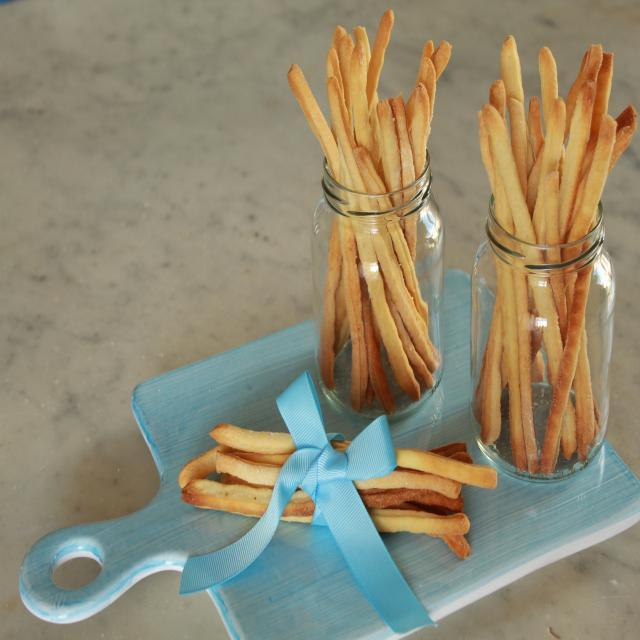Grissini: (479, 47, 621, 447), (289, 14, 444, 374)
